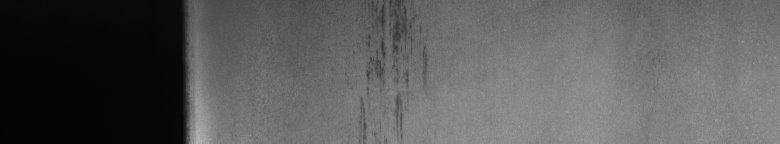ka: (359, 4, 432, 136)
